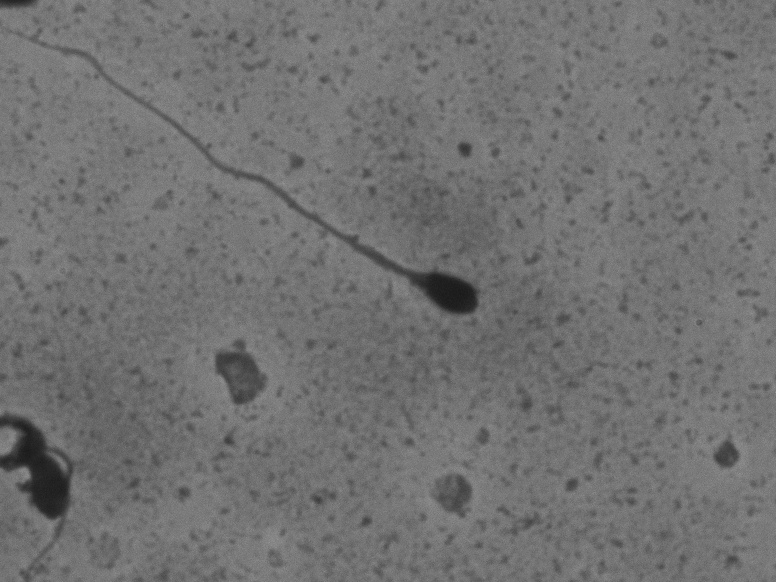Normal: (17, 16, 533, 347)
